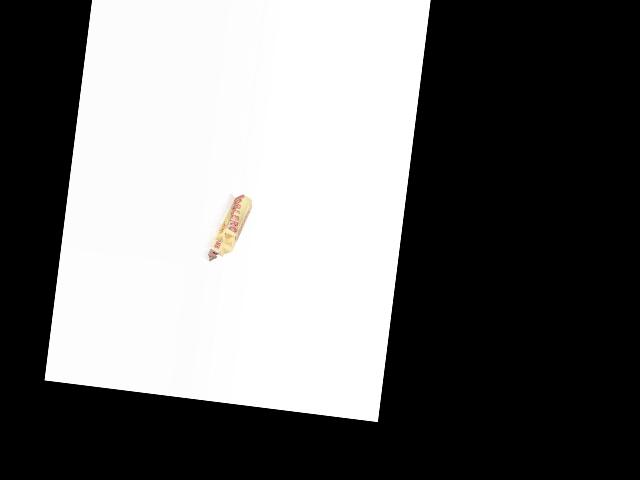chocolate: (204, 191, 254, 266)
